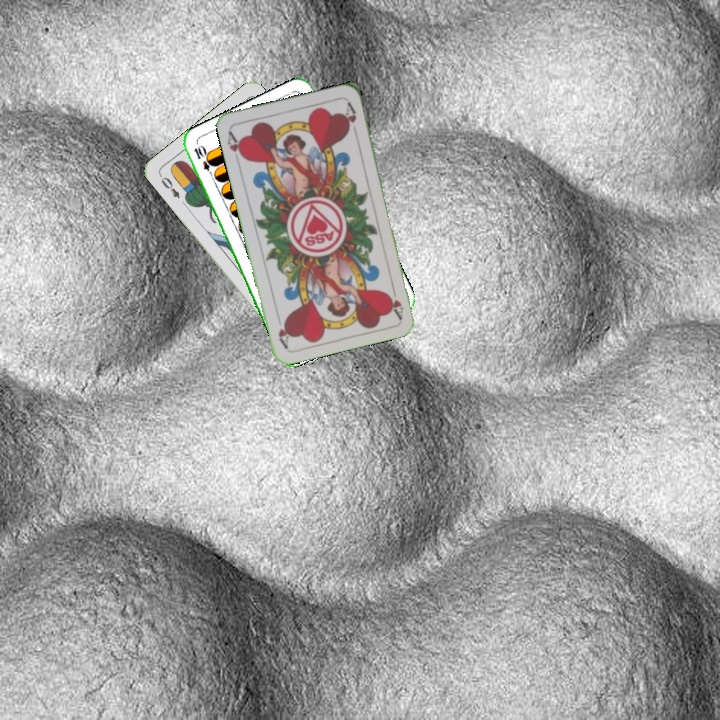E10: (190, 141, 217, 180)
EO: (155, 170, 183, 201)
HA: (223, 126, 248, 162), (385, 281, 406, 321)
